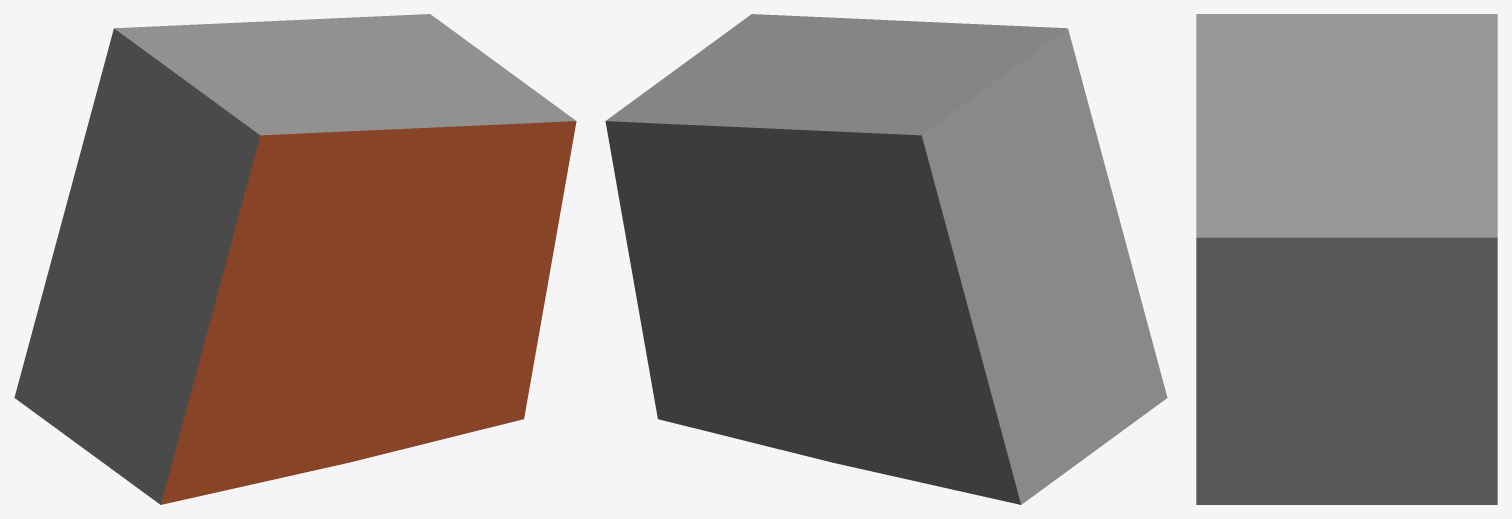
The model's file is construction_3508_assumed_A_Casa_h6m.obj.
The picture shows the model from 3 angles, left to right: view 1: azimuth 30°, elevation 25°; view 2: azimuth 150°, elevation 25°; view 3: azimuth 270°, elevation 25°; orthographic projection. The views are drawn at different scales.
Visible parts, largest first — view 1: construction_3508_assumed_A_Casa; view 2: construction_3508_assumed_A_Casa; view 3: construction_3508_assumed_A_Casa.
Boxes of the visible parts, x1=… form: construction_3508_assumed_A_Casa: x1=14, y1=14, x2=576, y2=504; construction_3508_assumed_A_Casa: x1=605, y1=14, x2=1167, y2=504; construction_3508_assumed_A_Casa: x1=1196, y1=14, x2=1497, y2=504.
Bounding box in the file's own units: 9.84 × 7.89 × 6.
